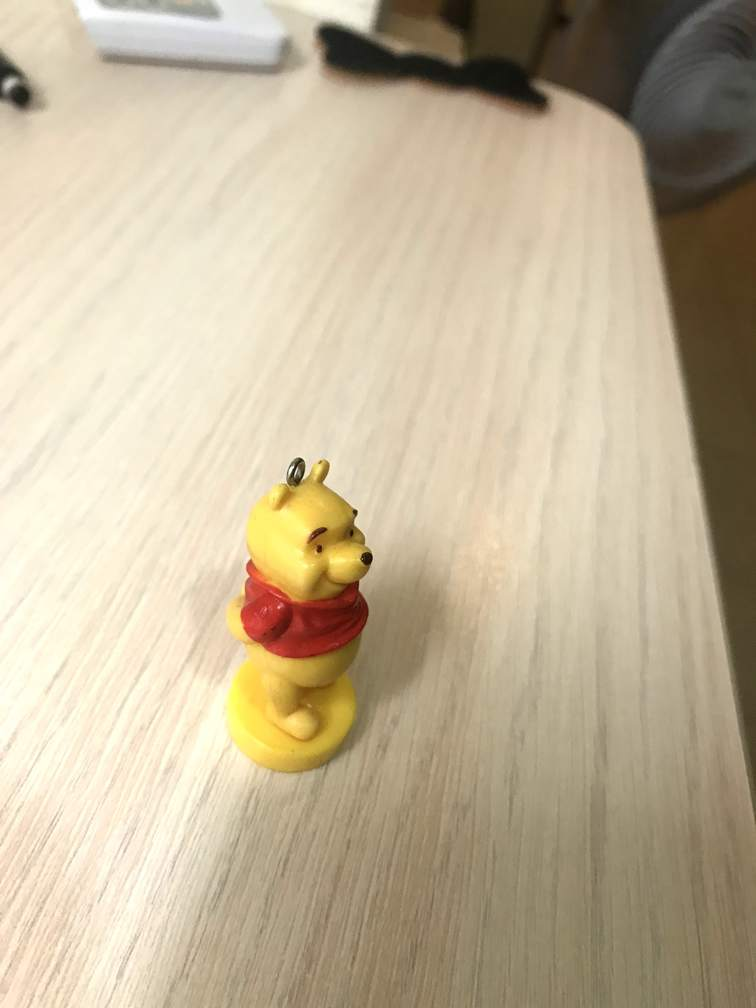Winnie: (244, 456, 380, 658)
